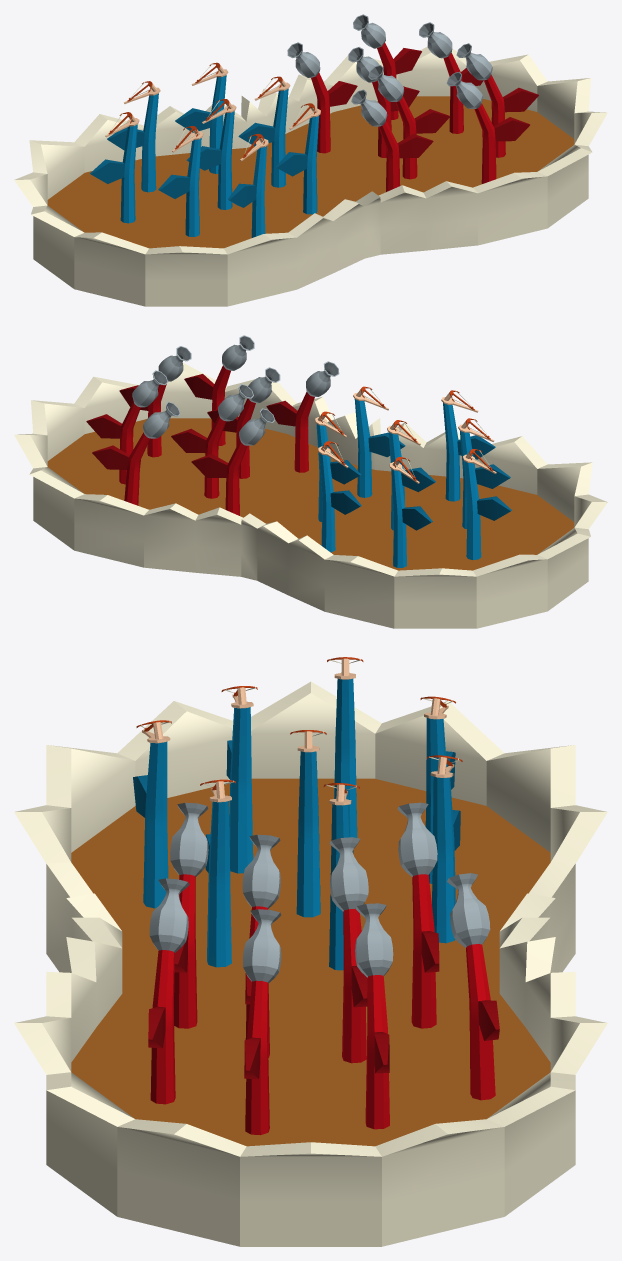
File: flowerbed.fbx
3 views of the same model, one above another, from view 1: azimuth 30°, elevation 25°; view 2: azimuth 150°, elevation 25°; view 3: azimuth 270°, elevation 25° (orthographic). The views are drawn at different scales.
Parts seen in each view (by area): view 1: cannon_flower8; view 2: cannon_flower8; view 3: cannon_flower8.
Boxes of the visible parts, <box> form: cannon_flower8: <box>14,14,607,306</box>; cannon_flower8: <box>14,335,607,628</box>; cannon_flower8: <box>14,657,607,1246</box>.
Size of the model in its own units: 26.79 by 6.45 by 14.25.
